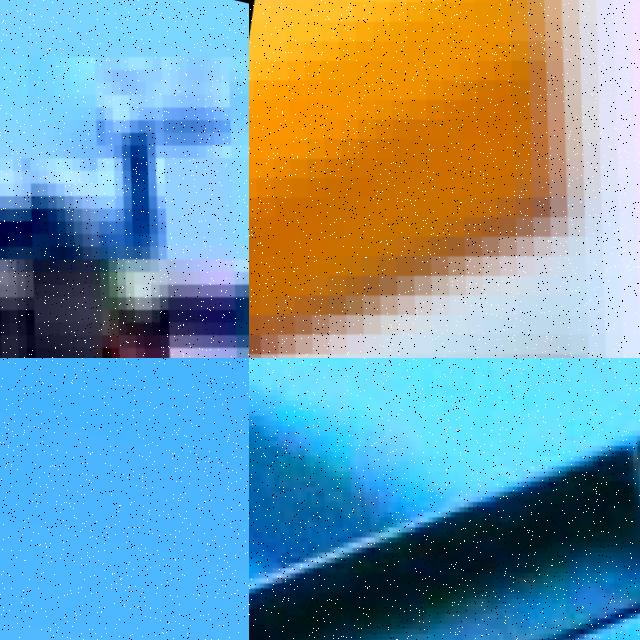0: (0, 0, 249, 358)
drone: (249, 0, 640, 358), (249, 358, 640, 640)
